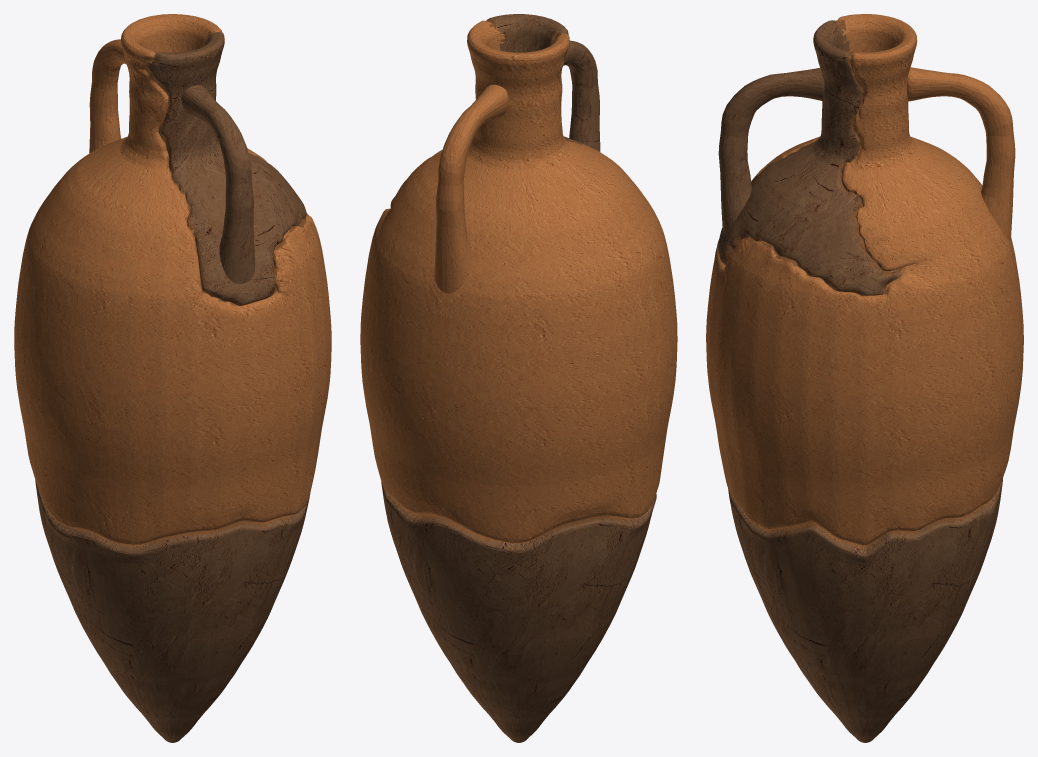
Rendered from amfora.gltf.
The picture shows the model from 3 angles, left to right: view 1: azimuth 30°, elevation 25°; view 2: azimuth 150°, elevation 25°; view 3: azimuth 270°, elevation 25°; orthographic projection.
Visible parts, largest first — view 1: cub; view 2: cub; view 3: cub.
Part boxes in pixels (x1=…): cub: x1=14, y1=14, x2=331, y2=742; cub: x1=360, y1=14, x2=677, y2=742; cub: x1=706, y1=14, x2=1023, y2=742.
Bounding box in the file's own units: 1.71 × 4.2 × 1.71.
Materials: 3 (3 with a texture image).
